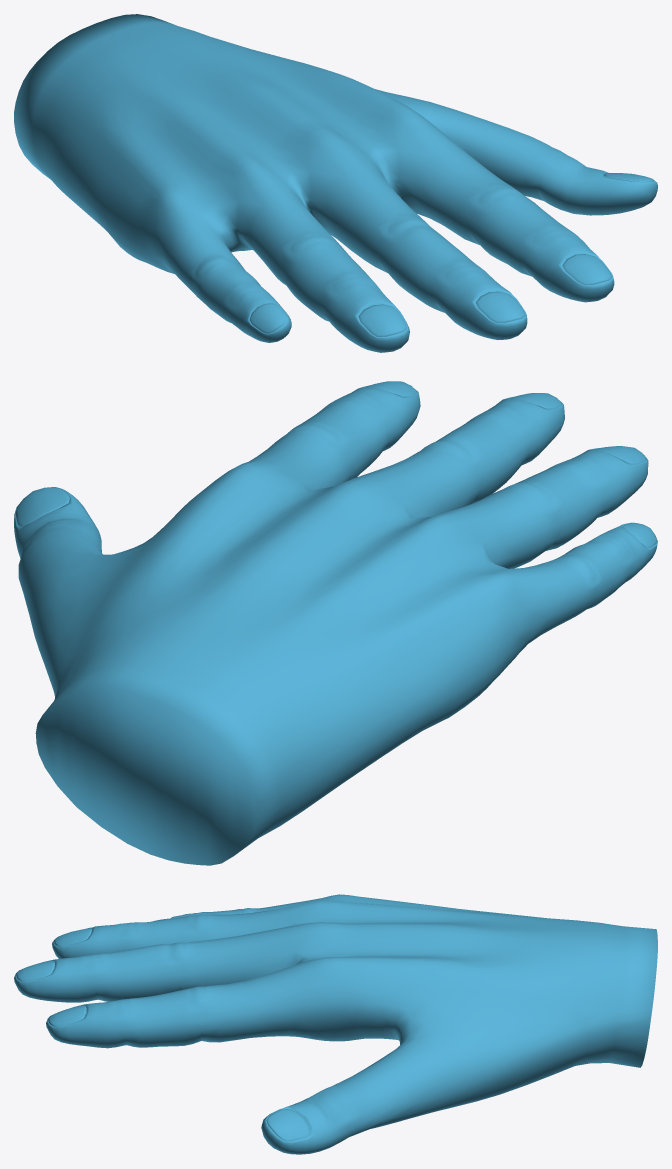
The model's file is SG_RobotHand Right.fbx.
The picture shows the model from 3 angles, top to bottom: view 1: azimuth 30°, elevation 25°; view 2: azimuth 150°, elevation 25°; view 3: azimuth 270°, elevation 25°; orthographic projection. The views are drawn at different scales.
Visible parts, largest first — view 1: SkinnedMesh; view 2: SkinnedMesh; view 3: SkinnedMesh.
Part boxes in pixels (x1,y1,x2,y2): SkinnedMesh: (14,14,657,352); SkinnedMesh: (14,381,657,865); SkinnedMesh: (14,894,657,1154).
Bounding box in the file's own units: 305 × 107 × 422.
